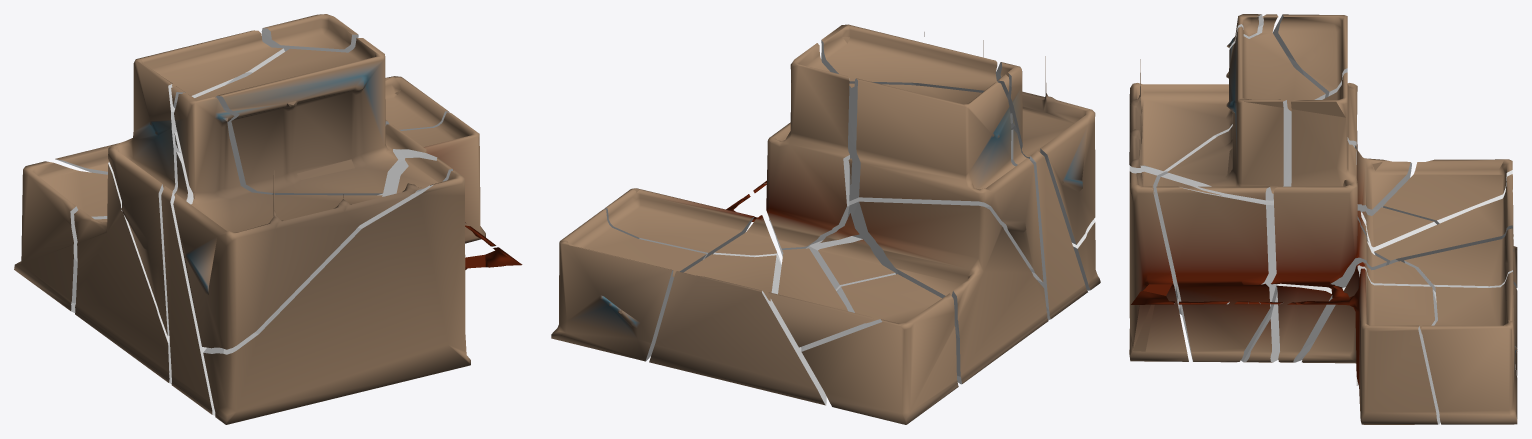
File: Desert Houses.glb
3 views of the same model, side by side, from view 1: azimuth 30°, elevation 25°; view 2: azimuth 150°, elevation 25°; view 3: azimuth 270°, elevation 25° (orthographic). The views are drawn at different scales.
Parts seen in each view (by area): view 1: Root, Root.005, Root.017, Root.007, Root.021, Root.001, Root.002, Root.003, Root.006, Root.014, Root.010, Root.019; view 2: Root.007, Root.021, Root.001, Root.022, Root.014, Root.006, Root.005, Root.017, Root.003, Root.019, Root.002, Root.012 (+2 smaller); view 3: Root.010, Root.006, Root.017, Root.014, Root.003, Root, Root.005, Root.001, Root.012, Root.007, Root.022, Root.019 (+3 smaller).
Part boxes in pixels (box(x1,y1,x2,y2)): Root: box(203, 170, 522, 424); Root.005: box(173, 94, 421, 349); Root.017: box(171, 37, 426, 195); Root.007: box(108, 30, 284, 336); Root.021: box(74, 162, 171, 383); Root.001: box(14, 161, 107, 312); Root.002: box(161, 152, 215, 415); Root.003: box(401, 112, 485, 243); Root.006: box(261, 14, 388, 125); Root.014: box(385, 76, 449, 130); Root.010: box(377, 149, 452, 196); Root.019: box(55, 143, 116, 174); Root.007: box(848, 78, 1043, 282); Root.021: box(847, 201, 1048, 384); Root.001: box(801, 274, 958, 424); Root.022: box(649, 254, 826, 405); Root.014: box(551, 209, 706, 361); Root.006: box(766, 43, 849, 253); Root.005: box(983, 40, 1095, 244); Root.017: box(821, 24, 1009, 95); Root.003: box(604, 188, 757, 259); Root.019: box(768, 248, 873, 347); Root.002: box(1011, 129, 1087, 319); Root.012: box(776, 236, 895, 290); Root.010: box(1156, 173, 1276, 362); Root.006: box(1271, 72, 1386, 288); Root.017: box(1167, 14, 1325, 200); Root.014: box(1421, 272, 1517, 424); Root.003: box(1287, 268, 1440, 424); Root: box(1129, 165, 1188, 361); Root.005: box(1129, 14, 1263, 171); Root.001: box(1383, 159, 1517, 287); Root.012: box(1276, 207, 1436, 362); Root.007: box(1273, 14, 1357, 164); Root.022: box(1404, 228, 1517, 376); Root.019: box(1374, 174, 1513, 265).
Size of the model in its own units: 10.08 by 6.83 by 9.56.
